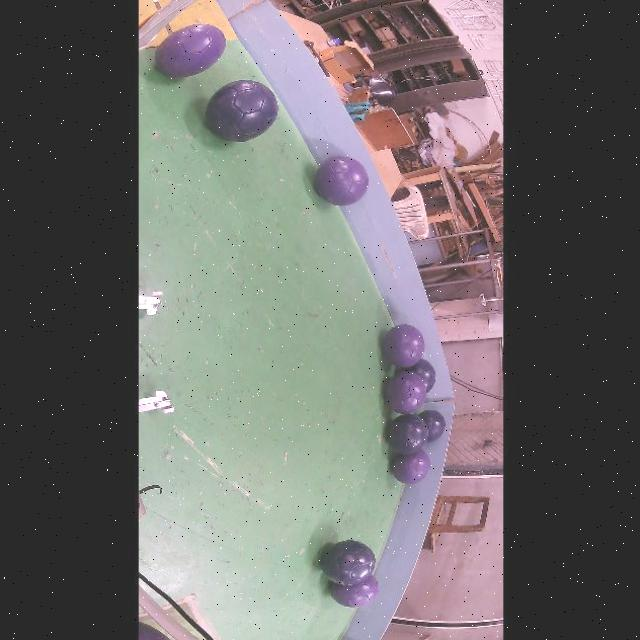B: (205, 80, 277, 142), (320, 541, 374, 586), (386, 414, 428, 455), (400, 358, 435, 393), (417, 409, 444, 442), (138, 622, 170, 640)
P: (154, 23, 225, 77), (314, 156, 367, 207), (382, 324, 424, 367), (385, 371, 425, 414), (329, 576, 378, 608), (391, 450, 429, 484)
